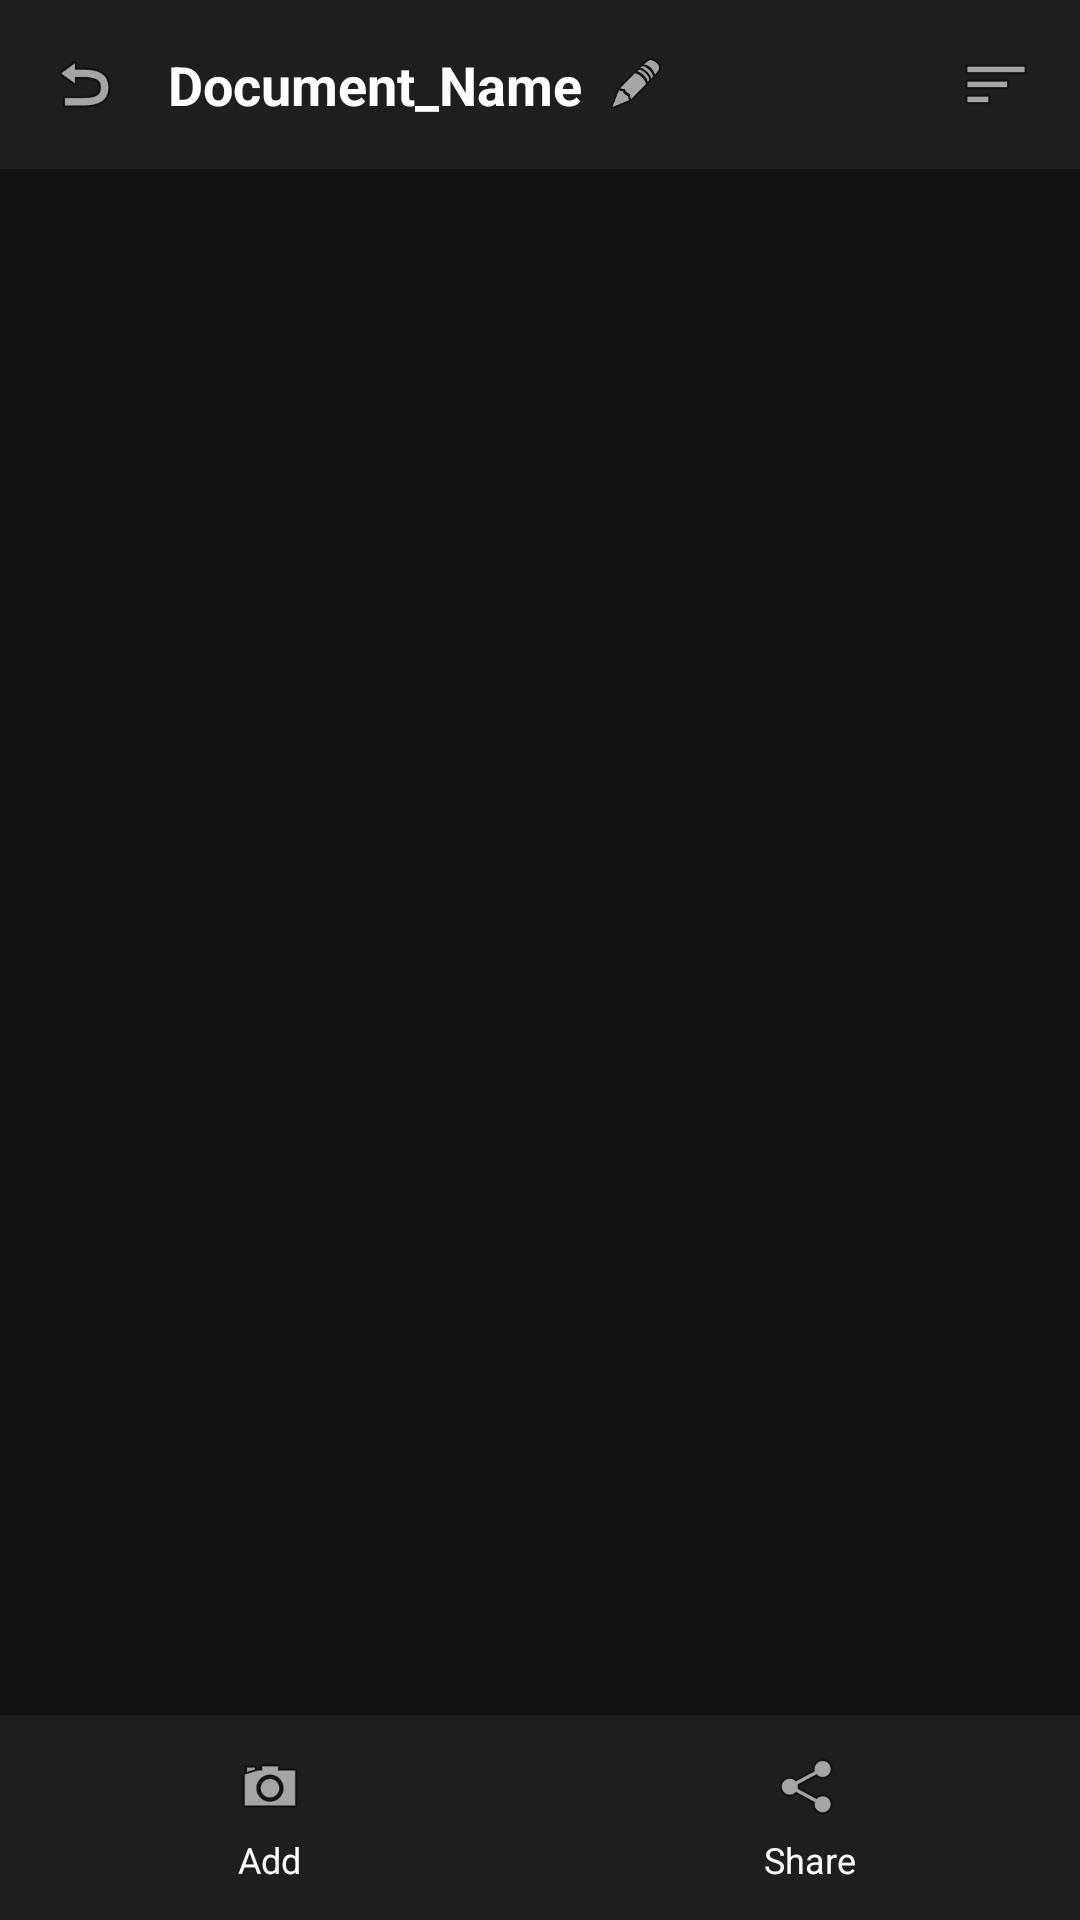

Icon bounding boxes for this 1080 × 1920 phone screenshot, format {"x1": x1, "y1": y1, "x2": x2, "y2": y2}:
camera: {"x1": 244, "y1": 1766, "x2": 296, "y2": 1806}
edit: {"x1": 612, "y1": 60, "x2": 659, "y2": 107}
revert: {"x1": 61, "y1": 63, "x2": 109, "y2": 106}
sort by size: {"x1": 967, "y1": 66, "x2": 1025, "y2": 102}
